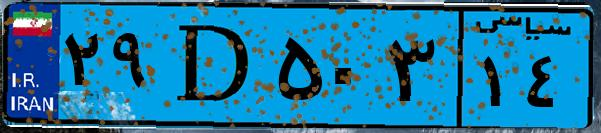0: (330, 28, 385, 110)
1: (475, 38, 525, 113)
2: (57, 26, 110, 100)
3: (385, 28, 445, 110)
4: (525, 38, 570, 115)
5: (270, 28, 330, 110)
9: (110, 28, 158, 98)
D: (158, 12, 270, 120)
